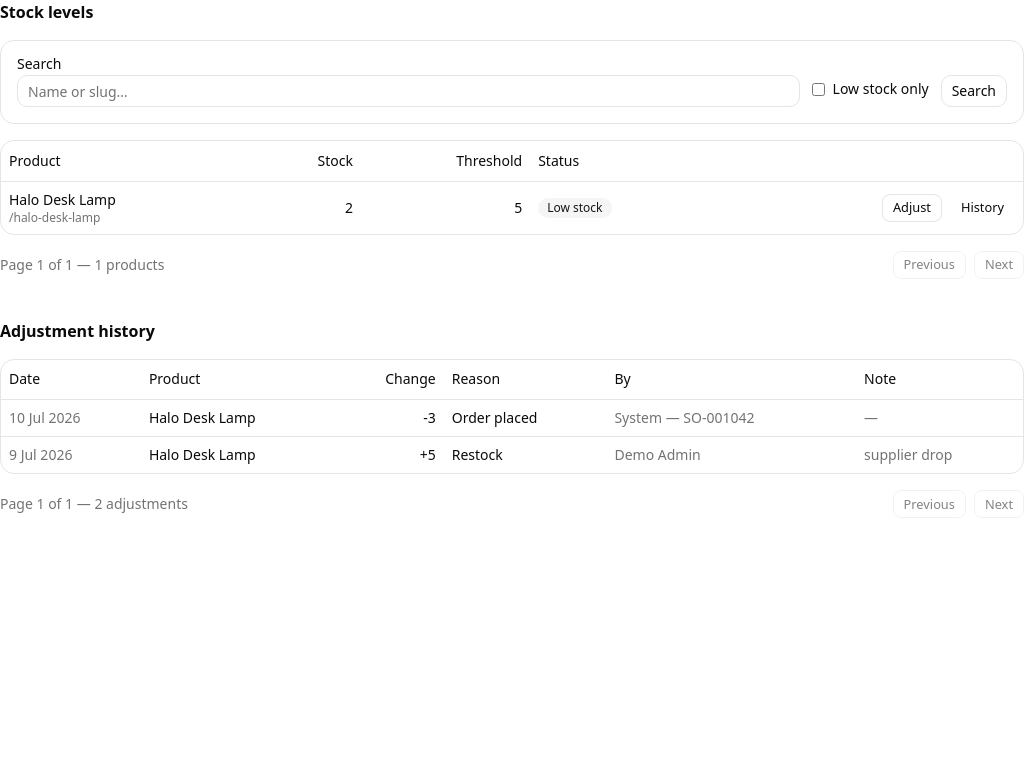
InventoryManager › opens the adjustment dialog with labelled fields and current stock
Click the button with aria-label "Adjust stock for Halo Desk Lamp": (912, 208) [882,194,942,222]
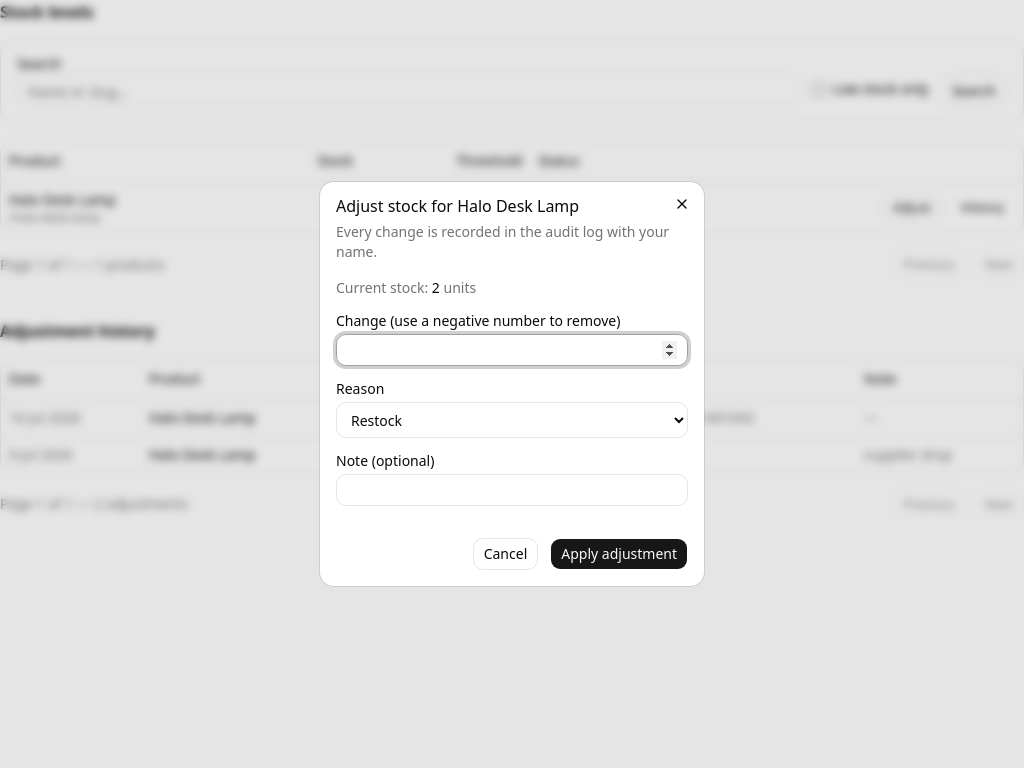
Now the heading "Adjust stock for Halo Desk Lamp" is shown, box [336,195,579,217]
Now the number field labelled "Change (use a negative number to remove)" is shown, box [336,334,688,366]
Now the dropdown labelled "Reason" is shown, box [336,402,688,438]
